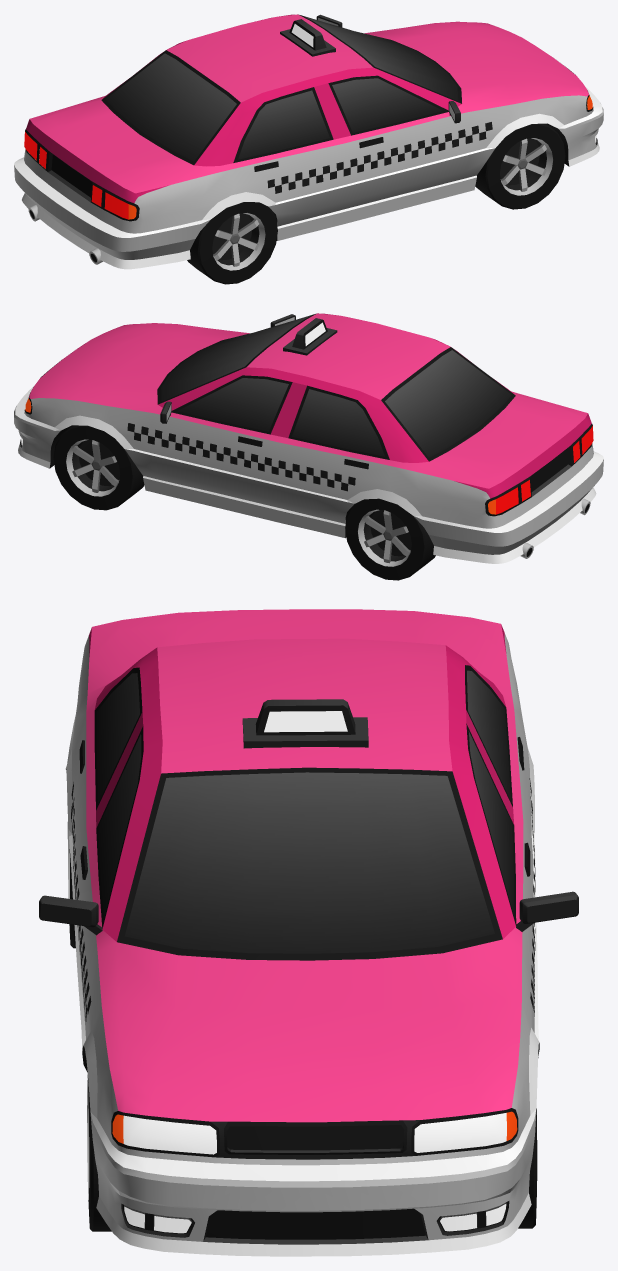
The model's file is RaceCar_070.glb.
3 views of the same model, one above another, from view 1: azimuth 30°, elevation 25°; view 2: azimuth 150°, elevation 25°; view 3: azimuth 270°, elevation 25° (orthographic). The views are drawn at different scales.
Parts seen in each view (by area): view 1: RaceCar_070, wheel_1_RaceCar_070_Wheel_1R, wheel_3_RaceCar_070_Wheel_2R; view 2: RaceCar_070, wheel_0_RaceCar_070_Wheel_1L, wheel_2_RaceCar_070_Wheel_2L; view 3: RaceCar_070, wheel_1_RaceCar_070_Wheel_1R.
Part boxes in pixels (box(x1,y1,x2,y2)): RaceCar_070: box(14, 14, 603, 269); wheel_1_RaceCar_070_Wheel_1R: box(475, 123, 565, 209); wheel_3_RaceCar_070_Wheel_2R: box(187, 202, 277, 284); RaceCar_070: box(14, 313, 603, 563); wheel_0_RaceCar_070_Wheel_1L: box(53, 425, 144, 510); wheel_2_RaceCar_070_Wheel_2L: box(345, 498, 435, 580); RaceCar_070: box(39, 609, 578, 1256); wheel_1_RaceCar_070_Wheel_1R: box(87, 1075, 111, 1231).
Bounding box in the file's own units: 4.57 × 1.54 × 2.07.
Materials: 2 (2 with a texture image).
